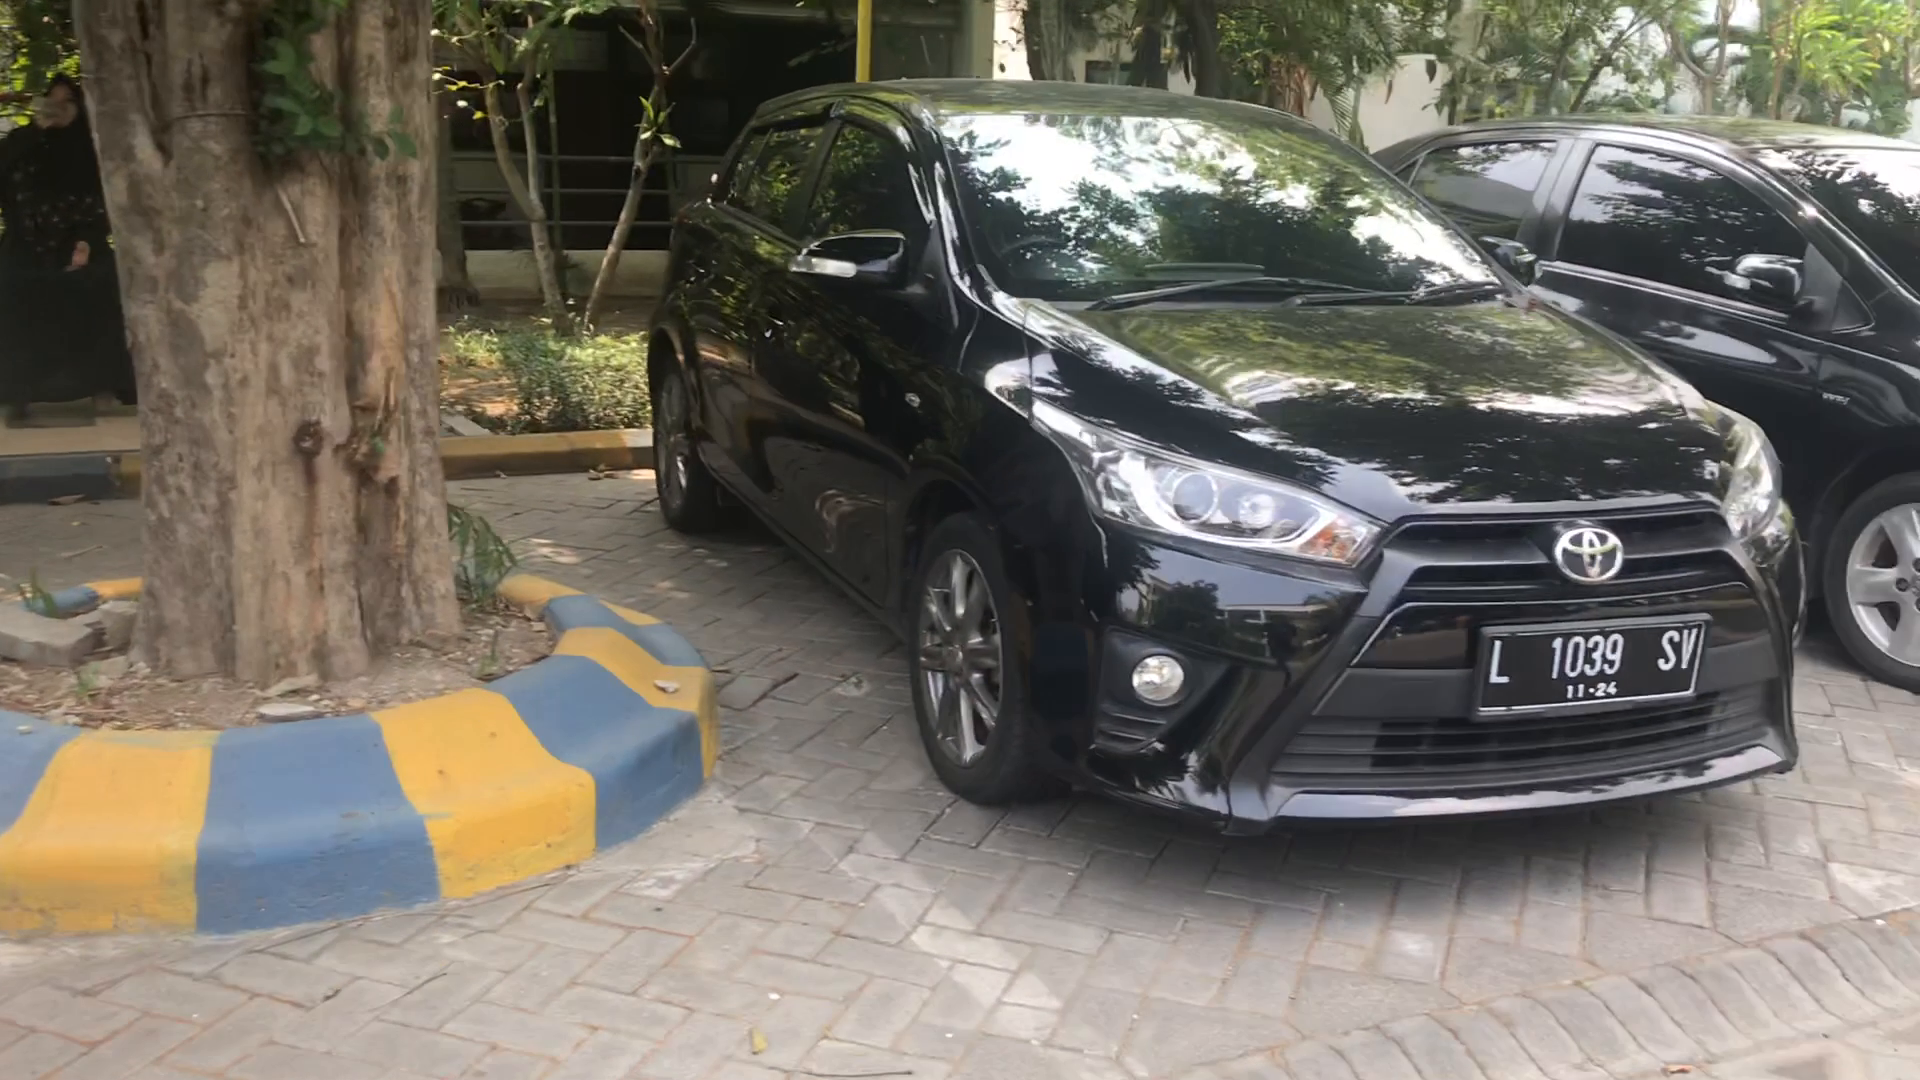plate: (1480, 630, 1702, 715)
